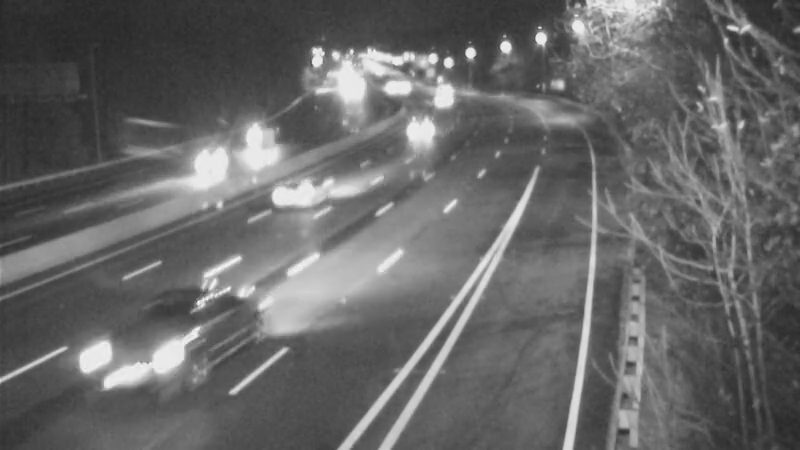vehicle: (83, 304, 193, 414), (255, 159, 335, 239), (170, 123, 250, 203), (377, 61, 427, 111), (363, 62, 413, 112), (420, 64, 470, 114), (418, 75, 468, 125), (395, 104, 445, 154), (233, 109, 283, 159)
